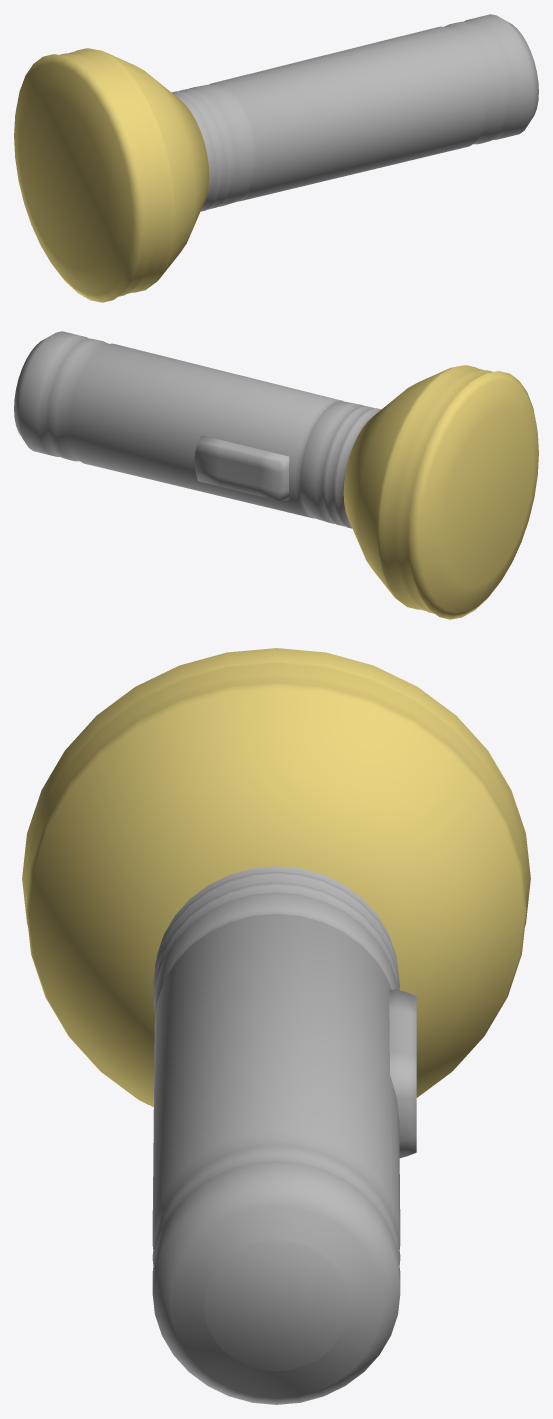
Rendered from flashlight_02.fbx.
3 renders of one model, top to bottom at view 1: azimuth 30°, elevation 25°; view 2: azimuth 150°, elevation 25°; view 3: azimuth 270°, elevation 25°, orthographic. The views are drawn at different scales.
Parts seen in each view (by area): view 1: Cylinder, Cylinder.001; view 2: Cylinder.001, Cylinder, Cube; view 3: Cylinder.001, Cylinder, Cube.
Part boxes in pixels (x1,y1,x2,y2): Cylinder: (171, 14, 538, 211); Cylinder.001: (14, 48, 209, 302); Cylinder.001: (343, 365, 538, 619); Cylinder: (14, 331, 381, 528); Cube: (194, 435, 289, 501); Cylinder.001: (22, 648, 530, 1107); Cylinder: (152, 866, 400, 1404); Cube: (389, 989, 416, 1158).
Bounding box in the file's own units: 457 × 223 × 223.
